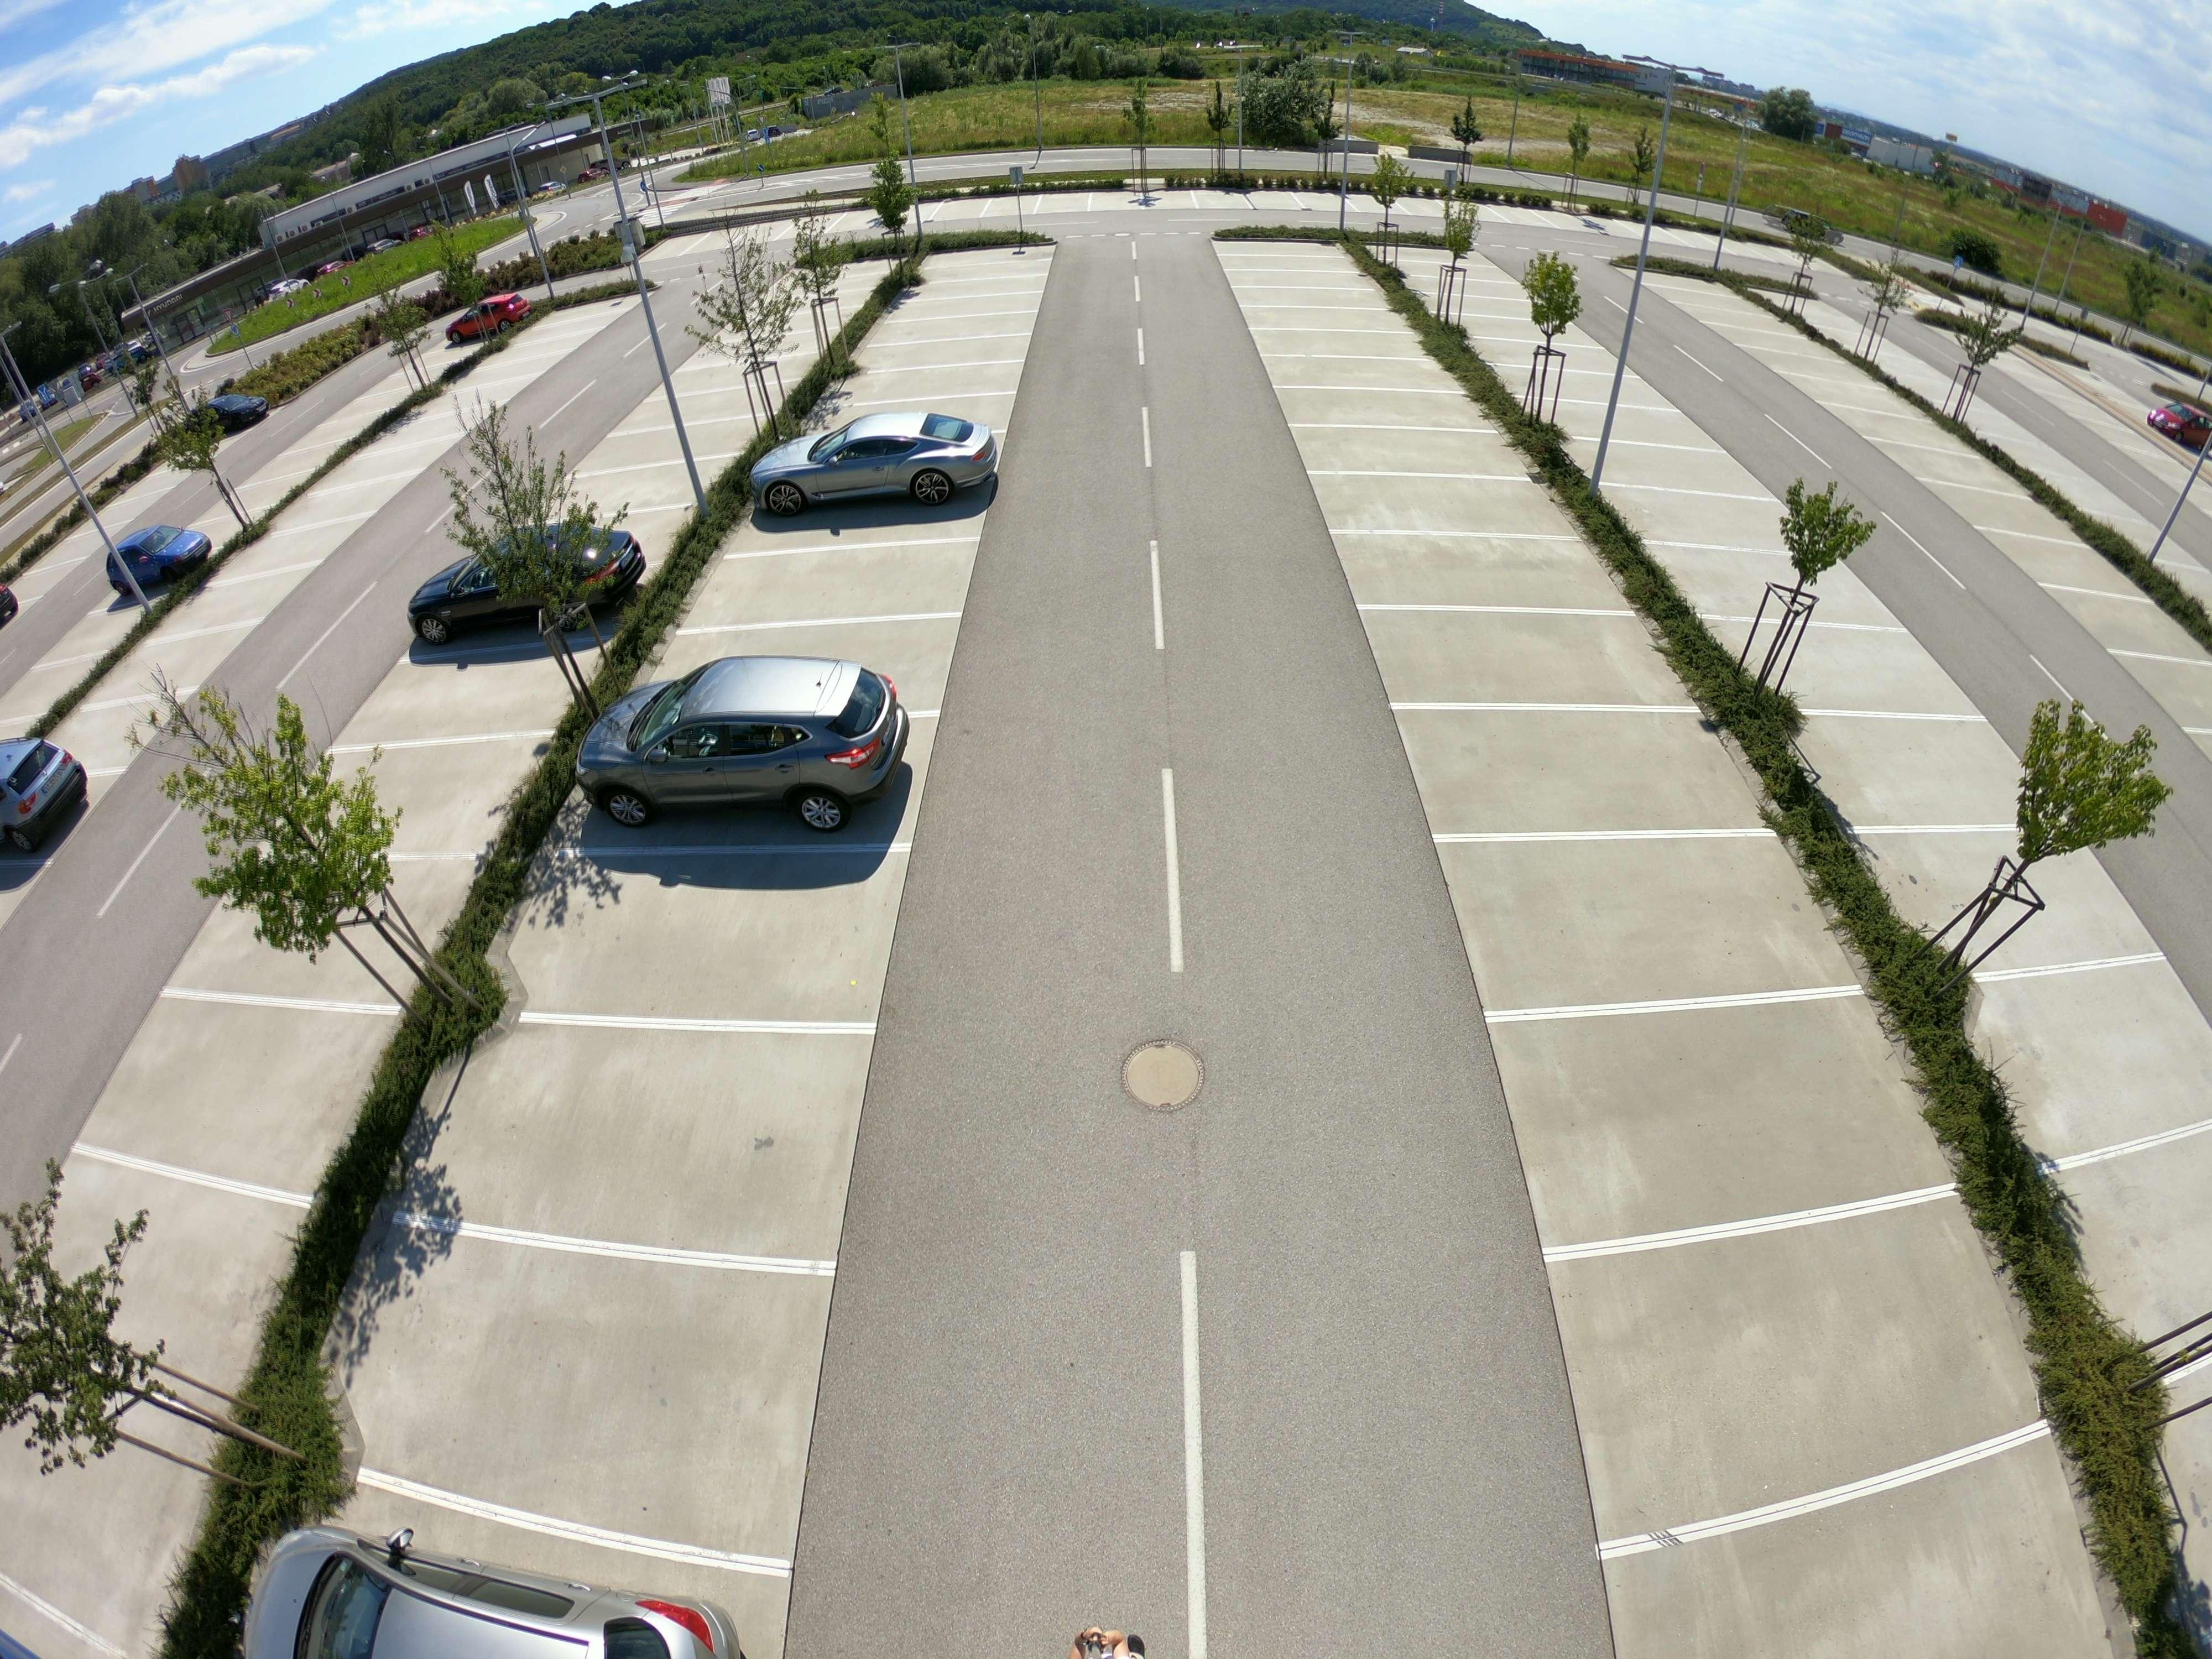empty: (230, 1507, 761, 1659), (583, 653, 918, 831), (744, 404, 996, 519), (404, 558, 547, 650), (7, 739, 87, 852)
occupied: (441, 1295, 779, 1509), (9, 1164, 235, 1419), (1648, 1272, 1944, 1459), (1719, 1514, 2074, 1659), (540, 1053, 829, 1215), (1608, 1037, 1890, 1195), (1501, 852, 1771, 983), (597, 864, 855, 995), (2015, 962, 2188, 1145), (1454, 713, 1705, 821), (310, 732, 503, 871), (1930, 816, 2088, 981), (1811, 706, 1986, 833), (152, 1039, 340, 1143), (1366, 519, 1557, 619), (1747, 608, 1907, 716), (1430, 615, 1618, 702), (392, 636, 536, 749), (751, 554, 928, 638), (1662, 533, 1799, 626), (1352, 465, 1498, 538), (103, 633, 235, 702), (1327, 415, 1454, 477), (185, 570, 279, 633), (578, 462, 655, 523), (1299, 382, 1402, 425), (636, 420, 716, 467), (263, 523, 324, 580), (874, 368, 949, 410)
